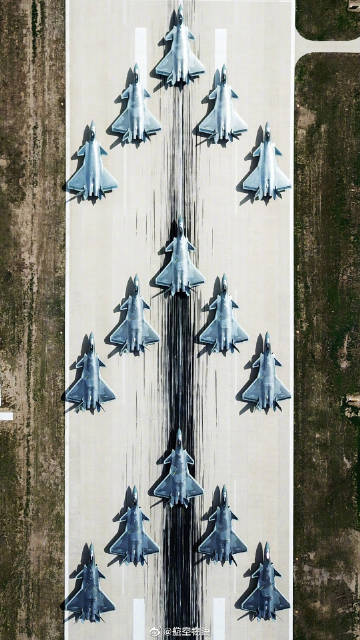J20: (64, 541, 117, 625), (198, 271, 250, 356), (65, 330, 117, 415), (66, 119, 119, 202), (109, 272, 161, 356), (197, 483, 249, 567), (154, 3, 206, 86), (155, 215, 207, 298), (109, 485, 161, 568), (111, 61, 162, 145), (241, 329, 292, 413), (153, 427, 205, 509), (241, 119, 292, 202), (240, 540, 291, 623), (198, 63, 248, 145)
